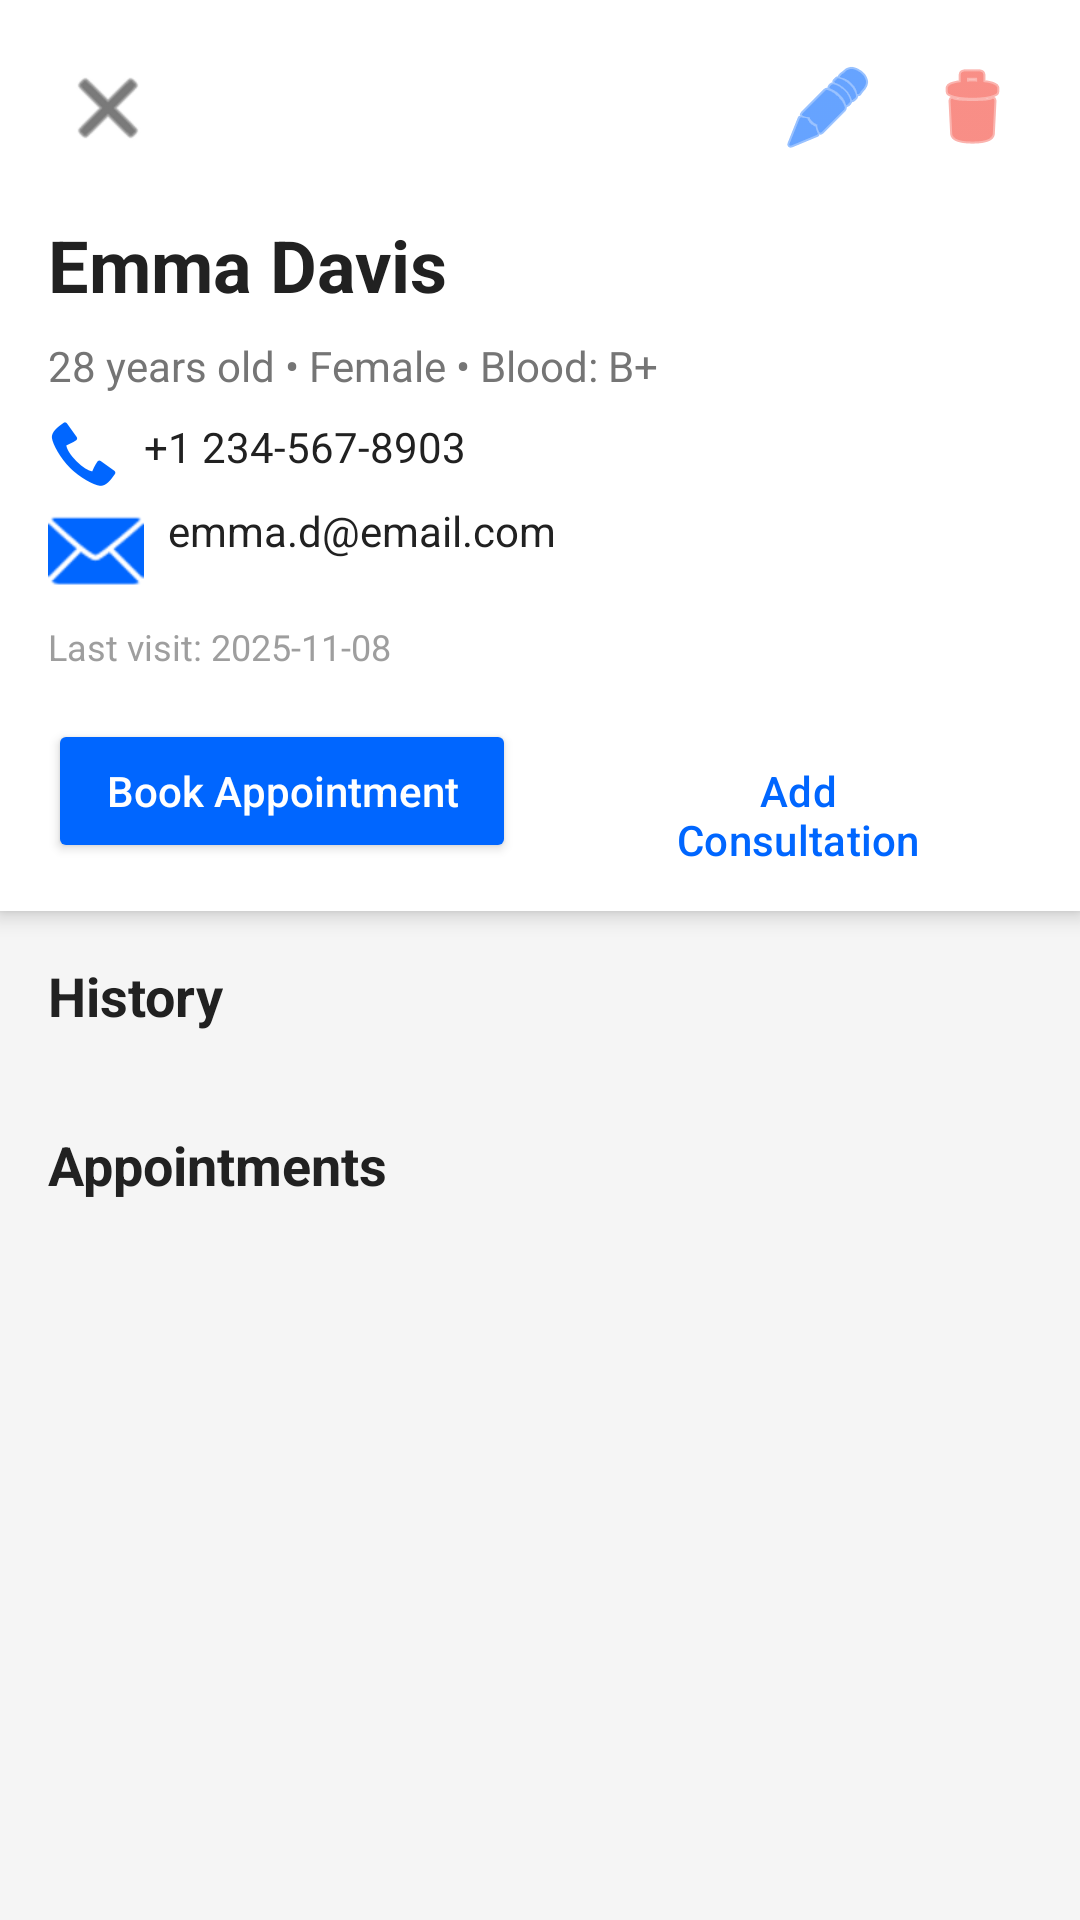

Screen size 1080 x 1920. Icon name, then its box in pixels as box(x1, y1, x2, y2):
Delete patient: box(945, 69, 1000, 144)
Edit patient: box(787, 67, 868, 148)
